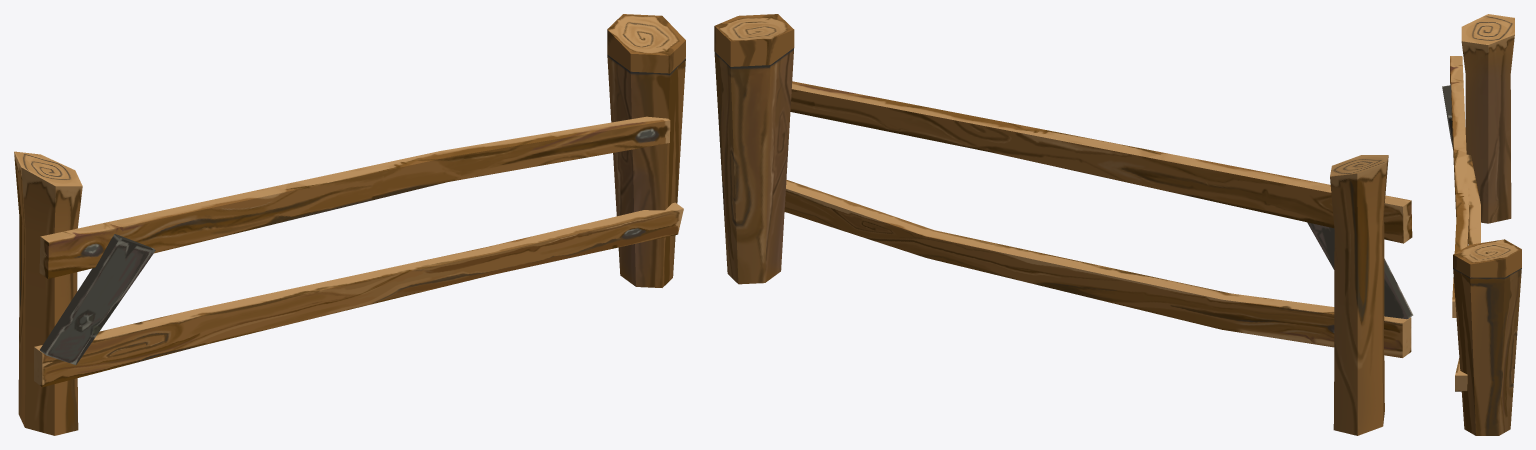
File: FarmFence_2.fbx
The picture shows the model from 3 angles, left to right: view 1: azimuth 30°, elevation 25°; view 2: azimuth 150°, elevation 25°; view 3: azimuth 270°, elevation 25°; orthographic projection. The views are drawn at different scales.
Parts seen in each view (by area): view 1: FarmFence_2; view 2: FarmFence_2; view 3: FarmFence_2.
Boxes of the visible parts, x1,y1,x2,y2 form: FarmFence_2: (14,14,685,435); FarmFence_2: (714,14,1413,435); FarmFence_2: (1442,14,1521,435).
Size of the model in its own units: 2.27 by 0.8649 by 0.3265.
